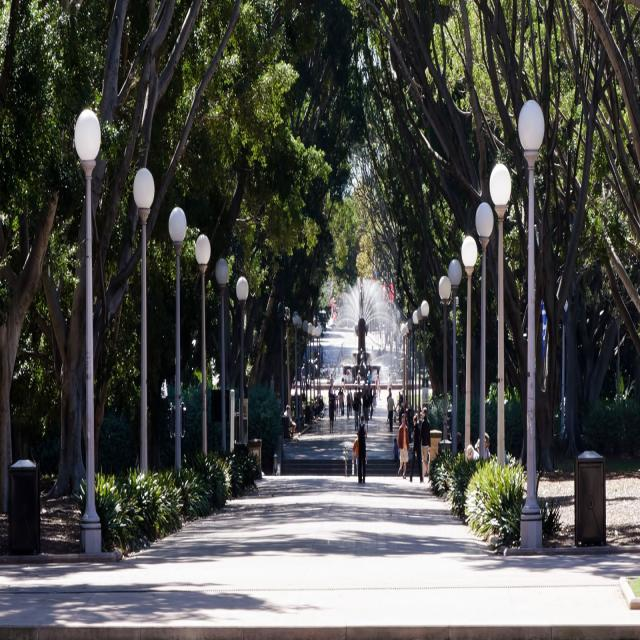body: (326, 322, 406, 386), (283, 342, 326, 442), (384, 385, 414, 426), (408, 413, 424, 484), (456, 431, 490, 464), (419, 406, 432, 484), (396, 412, 408, 478), (357, 414, 368, 485), (328, 386, 336, 434), (386, 392, 395, 433), (351, 431, 359, 476), (352, 392, 361, 430), (362, 389, 370, 430), (392, 436, 400, 466), (352, 386, 359, 420), (386, 386, 392, 424), (276, 391, 282, 427), (358, 283, 364, 319), (368, 386, 374, 419), (337, 386, 343, 418), (345, 391, 351, 422), (357, 386, 362, 423), (366, 382, 372, 412), (375, 372, 381, 401), (366, 369, 372, 397), (361, 383, 366, 414), (348, 386, 353, 416), (372, 385, 377, 414), (341, 389, 346, 417), (356, 369, 361, 392), (311, 313, 318, 327)
